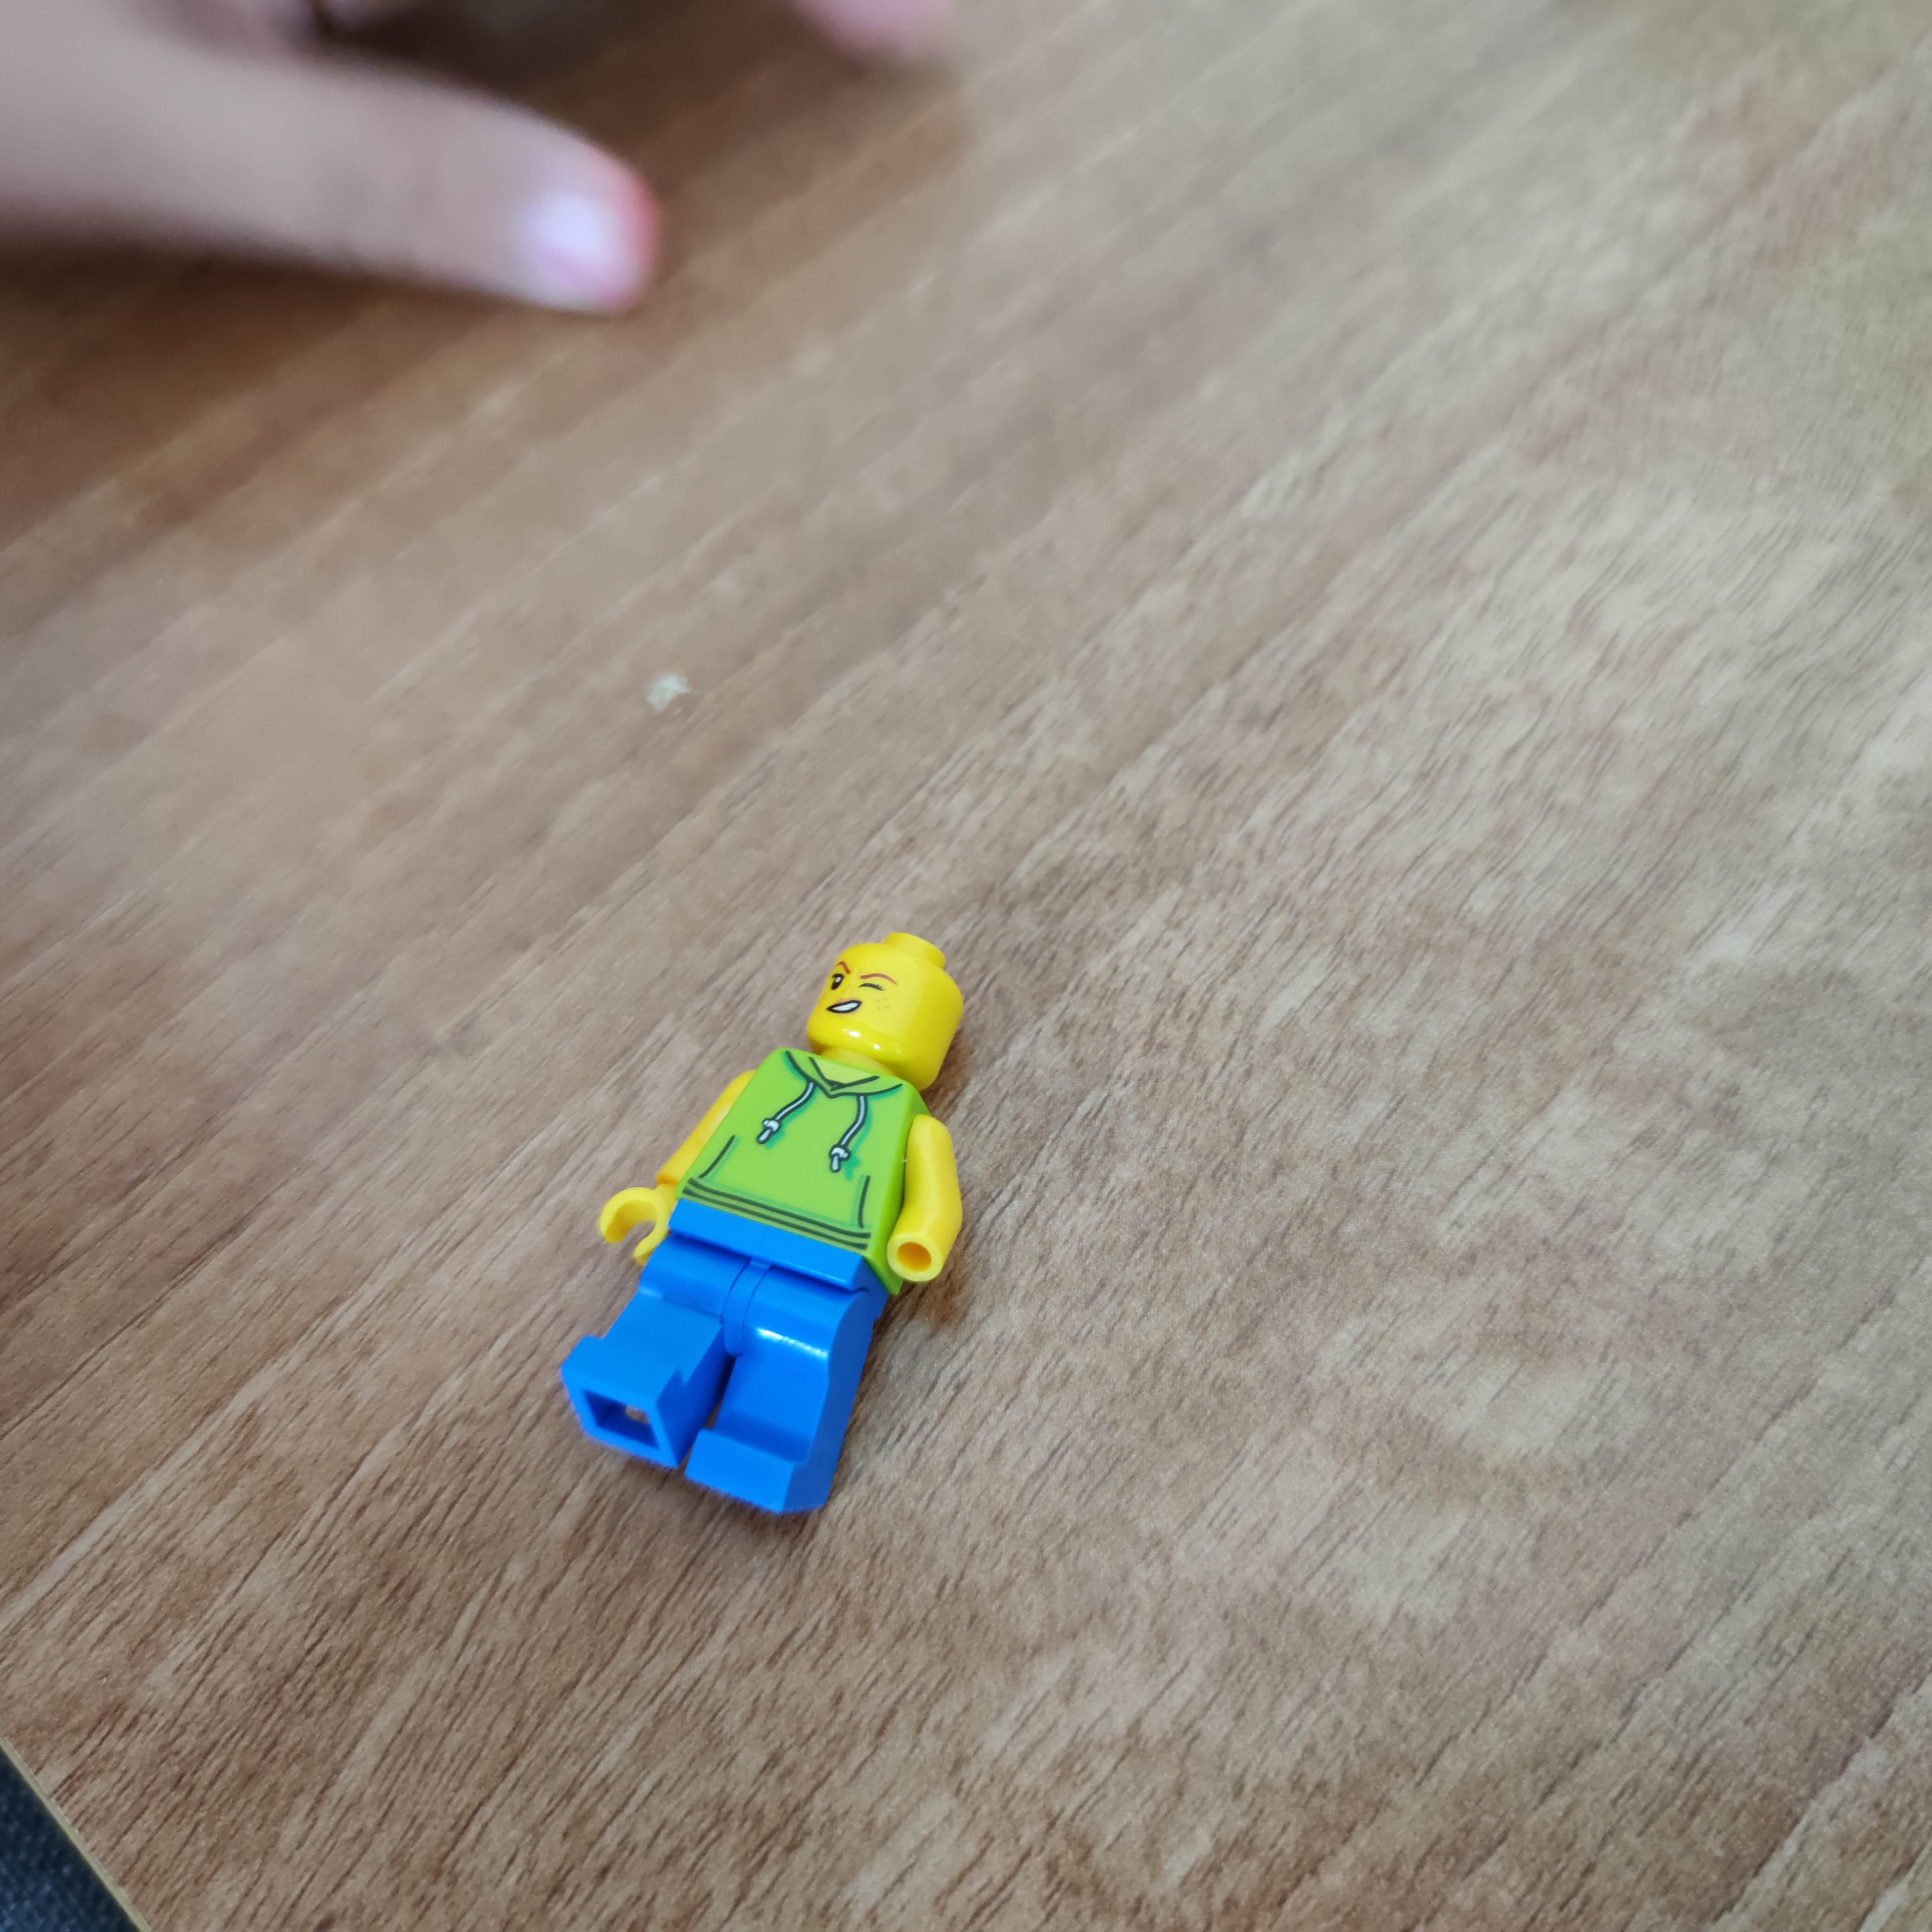lego: (571, 932, 973, 1522)
